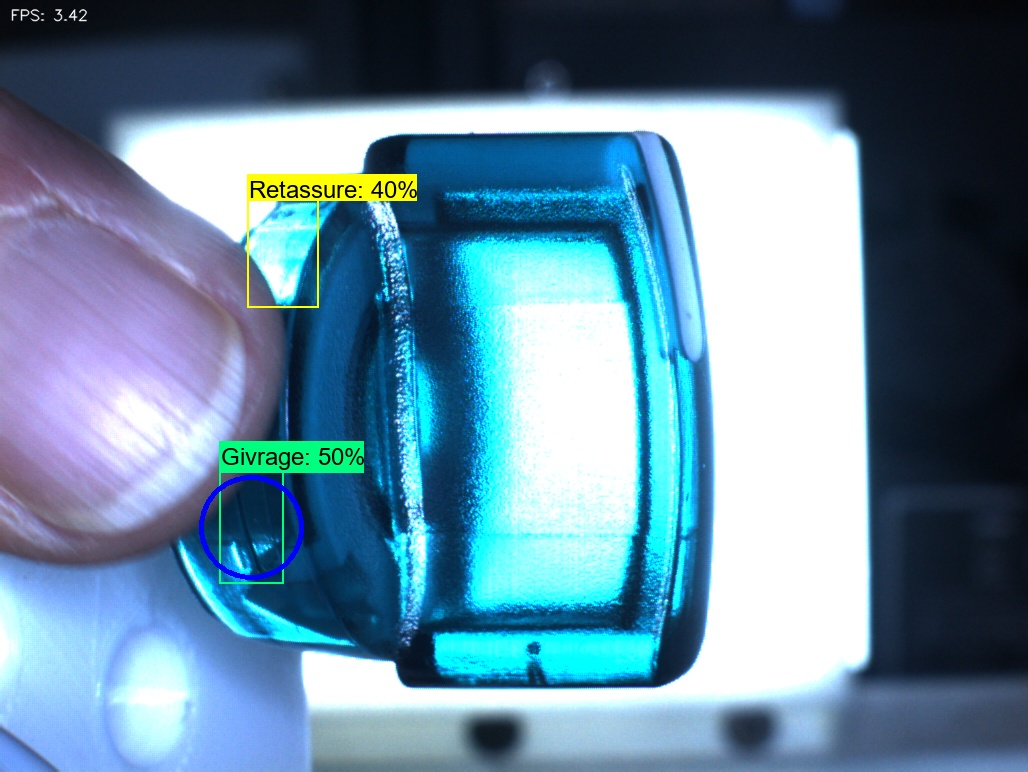Bulle: (502, 629, 576, 709)
